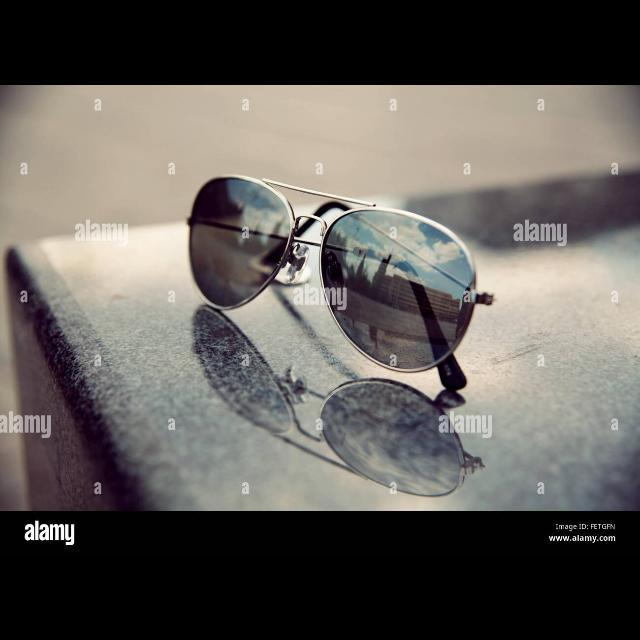glasses: (186, 173, 494, 393)
